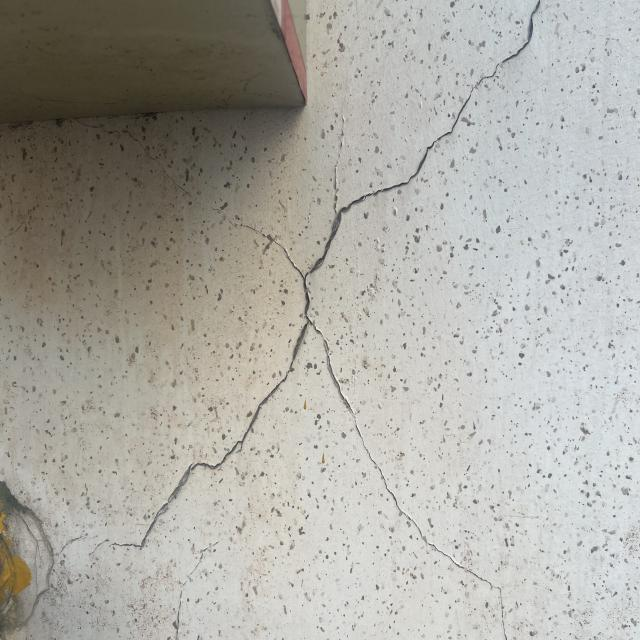crack: (55, 0, 524, 640)
